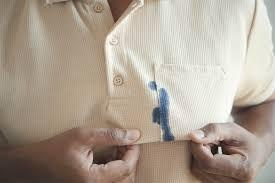ink: (160, 89, 171, 139), (153, 107, 159, 123), (149, 81, 157, 91)
